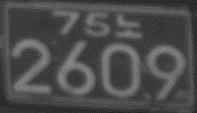0: (99, 42, 142, 99)
2: (11, 38, 52, 95)
5: (83, 10, 112, 38)
6: (56, 39, 96, 96)
7: (51, 8, 81, 35)
9: (146, 43, 187, 101)
노: (114, 11, 144, 39)
